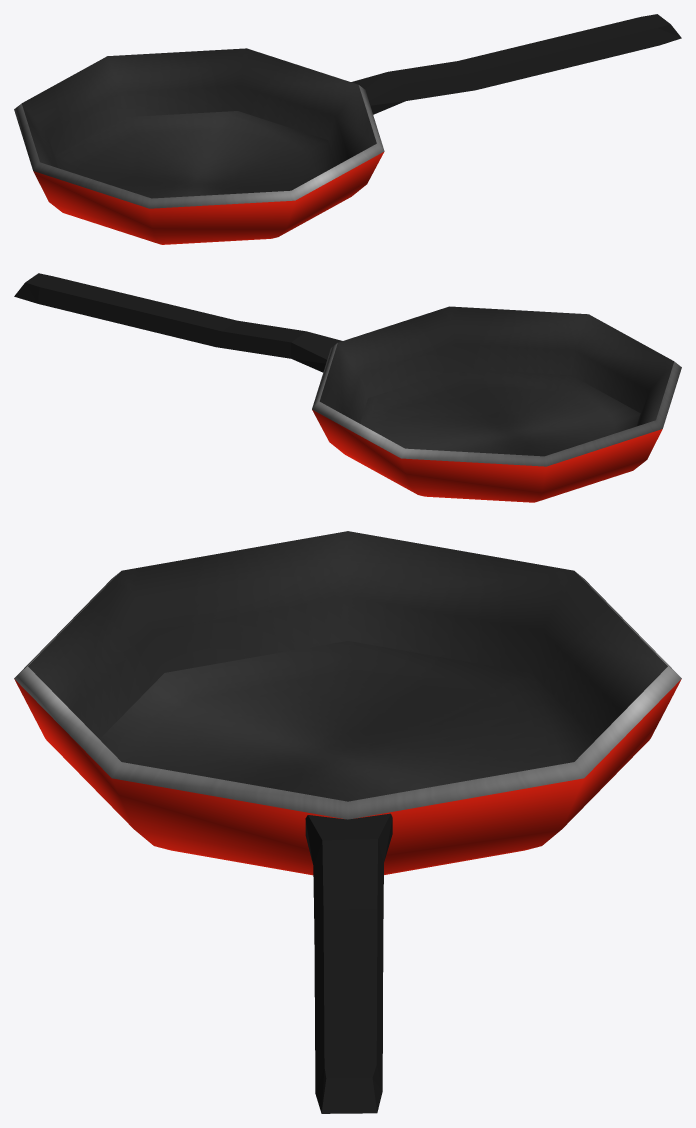
The model's file is Frying_Pan_A.FBX.
The picture shows the model from 3 angles, top to bottom: view 1: azimuth 30°, elevation 25°; view 2: azimuth 150°, elevation 25°; view 3: azimuth 270°, elevation 25°; orthographic projection. The views are drawn at different scales.
Parts seen in each view (by area): view 1: Frying_Pan; view 2: Frying_Pan; view 3: Frying_Pan.
Boxes of the visible parts, left/top/right/bottom form: Frying_Pan: left=14, top=14, right=681, bottom=244; Frying_Pan: left=14, top=273, right=681, bottom=502; Frying_Pan: left=14, top=531, right=681, bottom=1113.
Size of the model in its own units: 141 by 13.23 by 73.2.
